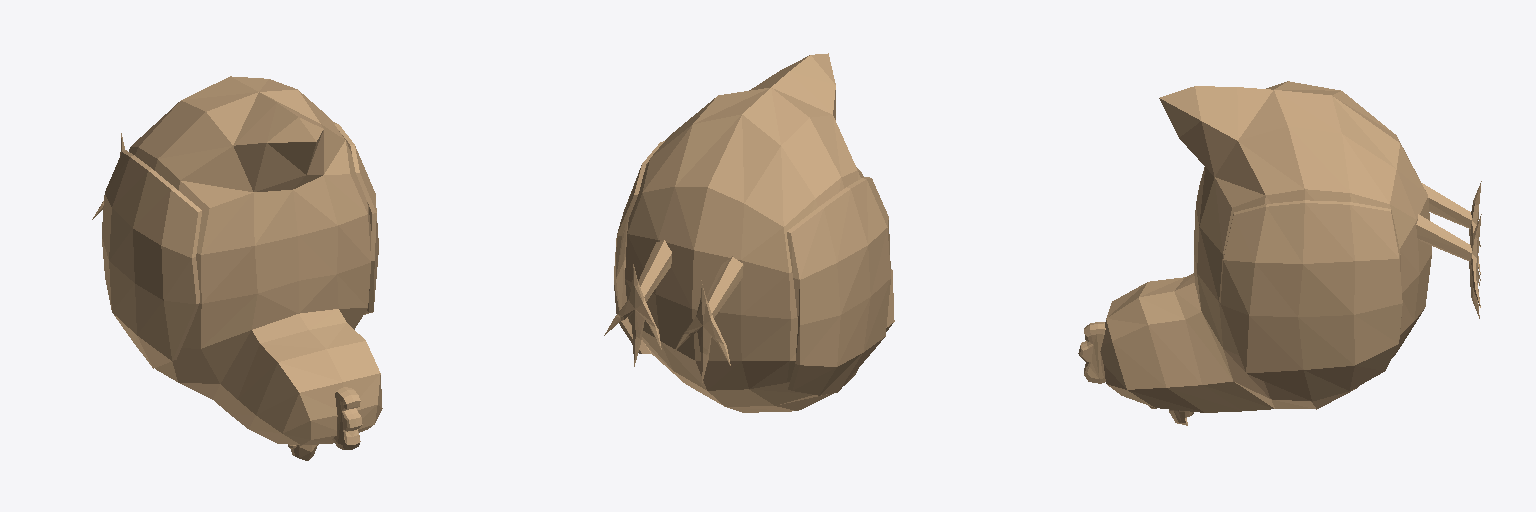
File: hardcore_chicken.obj
The picture shows the model from 3 angles: view 1: azimuth 30°, elevation 25°; view 2: azimuth 150°, elevation 25°; view 3: azimuth 270°, elevation 25°; orthographic projection.
Visible parts, largest first — view 1: Hen_Cube; view 2: Hen_Cube; view 3: Hen_Cube.
Part boxes in pixels (left/top/right/bottom): Hen_Cube: left=92, top=76, right=382, bottom=460; Hen_Cube: left=604, top=53, right=894, bottom=412; Hen_Cube: left=1078, top=81, right=1481, bottom=425.
Size of the model in its own units: 2.72 by 3.95 by 4.24.